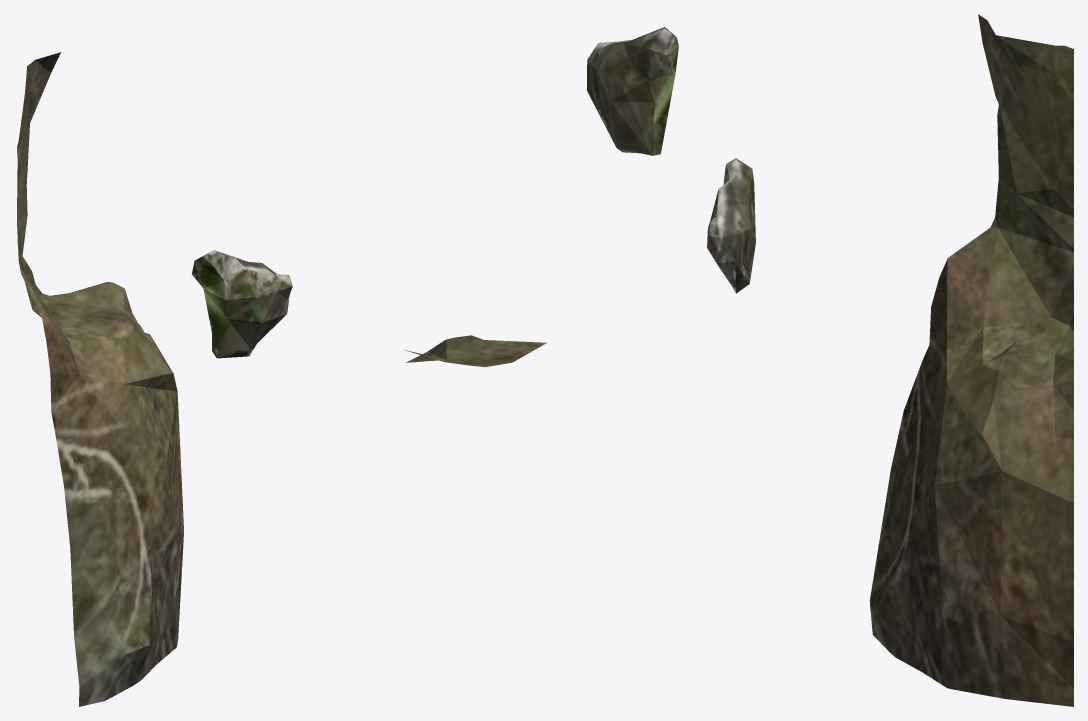
3 renders of one model, left to right at view 1: azimuth 30°, elevation 25°; view 2: azimuth 150°, elevation 25°; view 3: azimuth 270°, elevation 25°, orthographic. The views are drawn at different scales.
Size of the model in its own units: 1.01 by 2.95 by 1.61.
Materials: 1 (1 with a texture image).
